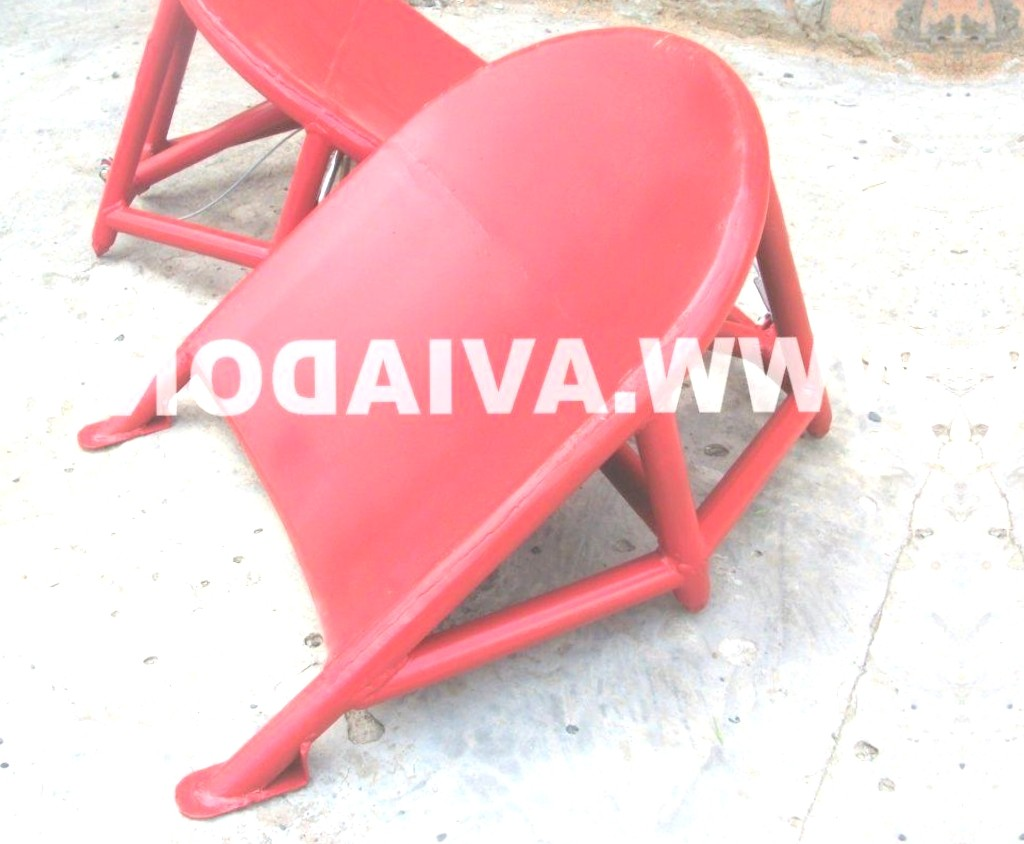chock: (73, 26, 838, 816), (80, 0, 487, 255)
